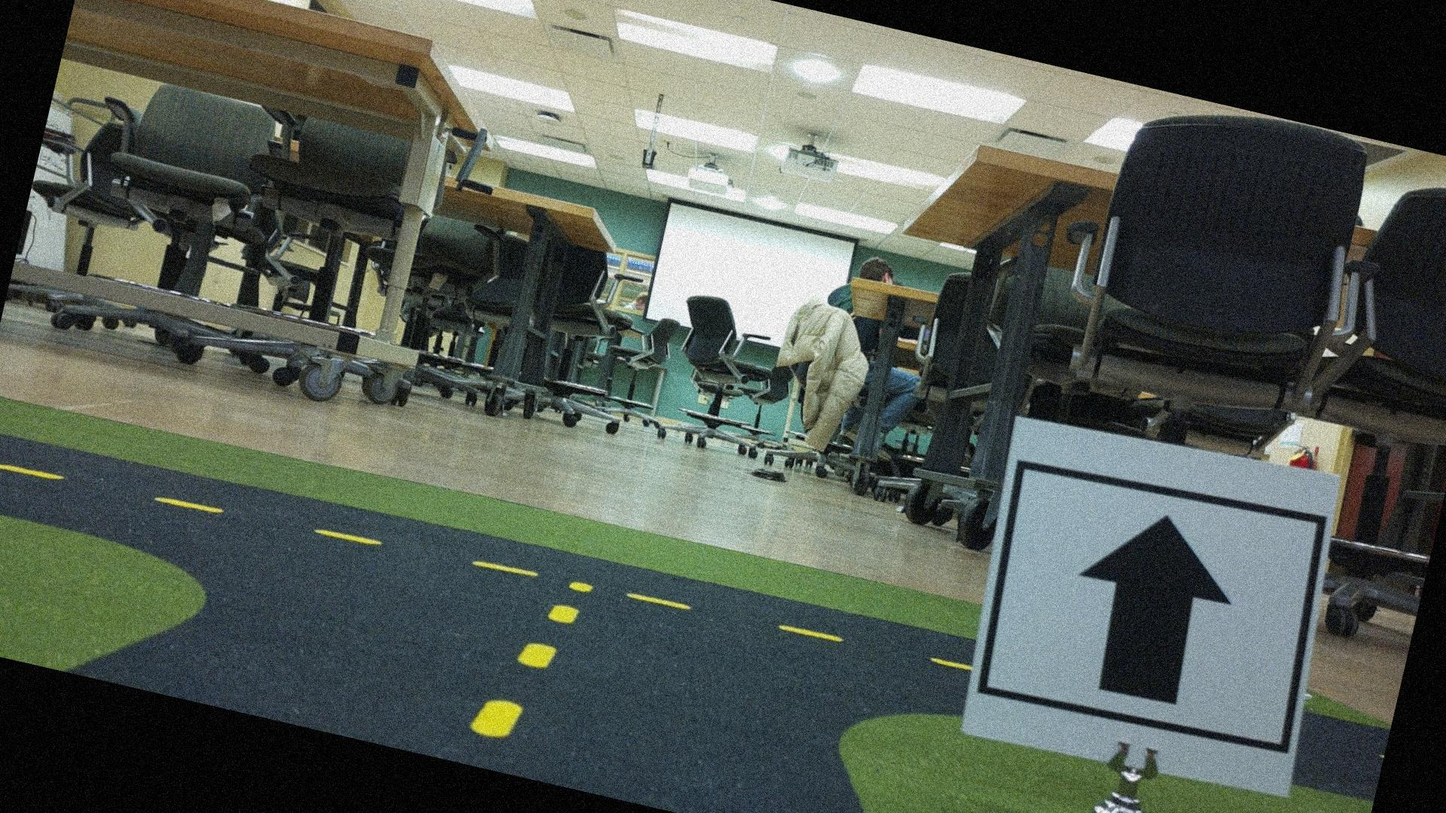gostraight: (956, 420, 1336, 787)
yellowline: (0, 437, 968, 690), (470, 566, 592, 755)
